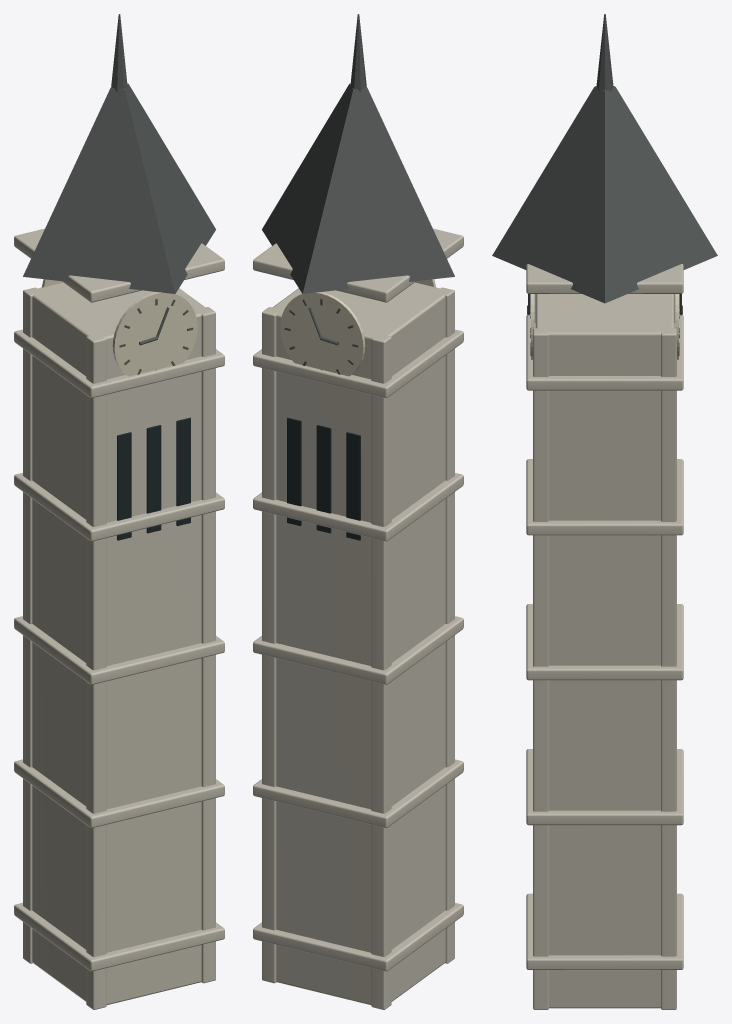
Rendered from ClockTower.fbx.
The picture shows the model from 3 angles, left to right: view 1: azimuth 30°, elevation 25°; view 2: azimuth 150°, elevation 25°; view 3: azimuth 270°, elevation 25°; orthographic projection.
Parts seen in each view (by area): view 1: ClockTower; view 2: ClockTower; view 3: ClockTower.
Part boxes in pixels (x1,y1,x2,y2): ClockTower: [14, 14, 224, 1009]; ClockTower: [253, 14, 463, 1009]; ClockTower: [492, 14, 717, 1009].
Bounding box in the file's own units: 4.24 × 20 × 4.24.
